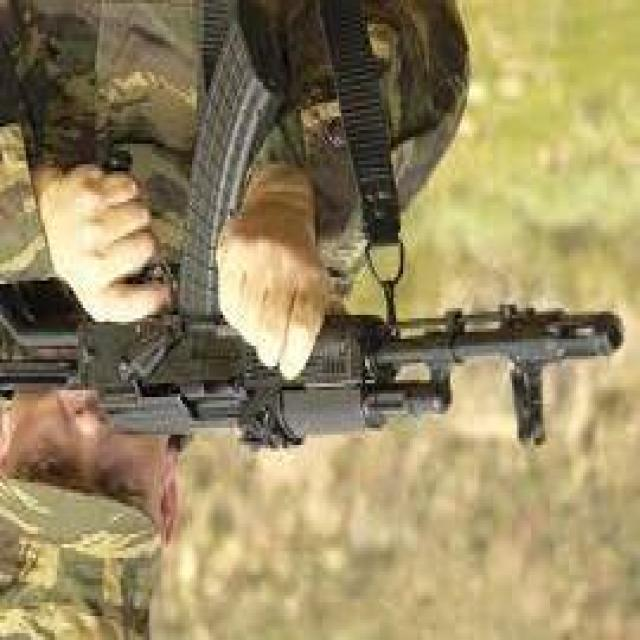weapon: (0, 1, 626, 453)
